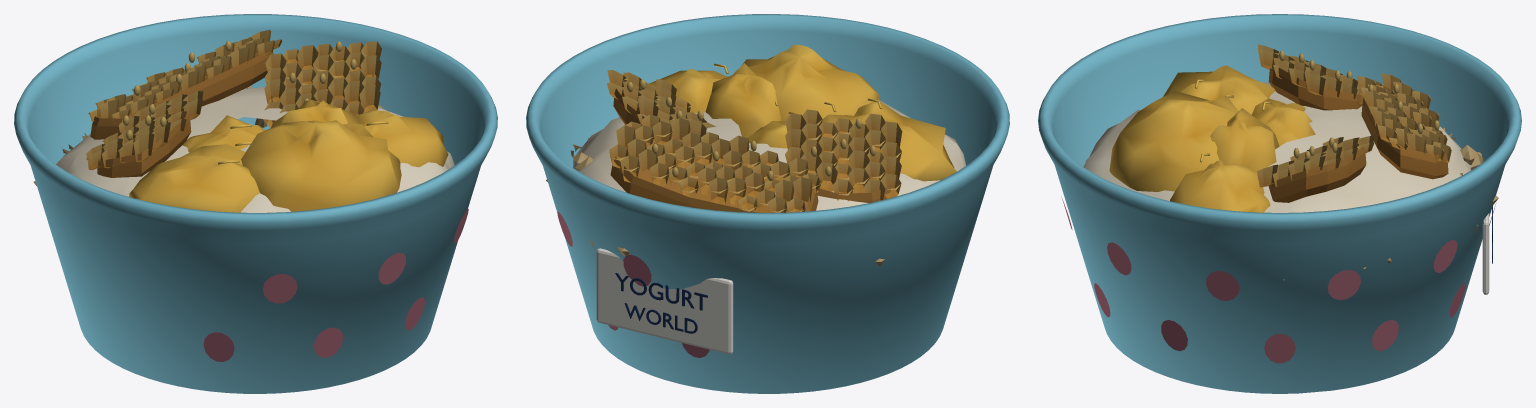
The model's file is honey.glb.
3 renders of one model, left to right at view 1: azimuth 30°, elevation 25°; view 2: azimuth 150°, elevation 25°; view 3: azimuth 270°, elevation 25°, orthographic.
Visible parts, largest first — view 1: G012_honey; view 2: G012_honey; view 3: G012_honey.
Part boxes in pixels (<box>): G012_honey: <box>14,14,497,393</box>; G012_honey: <box>526,14,1009,393</box>; G012_honey: <box>1038,14,1521,393</box>.
Size of the model in its own units: 0.148 by 0.0779 by 0.148.
